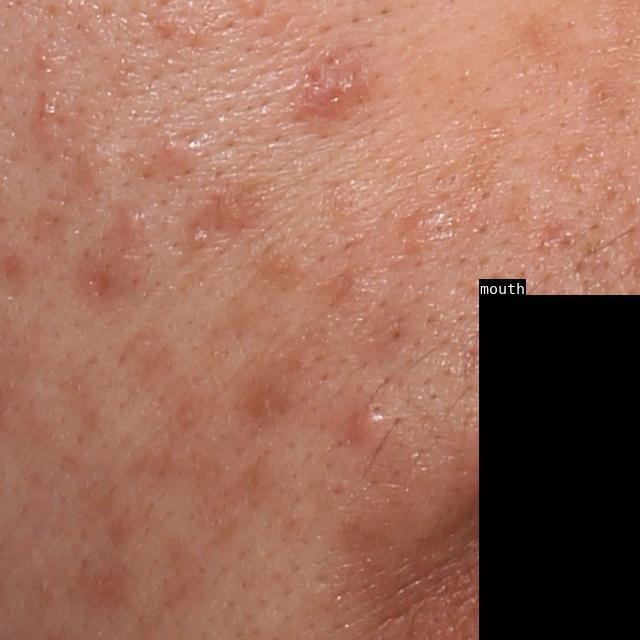comedo: (595, 84, 619, 110)
papule: (296, 65, 369, 118), (210, 186, 254, 235), (339, 405, 384, 449), (113, 206, 144, 239)
